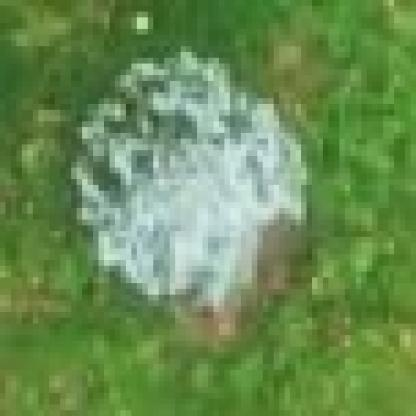Coniferous Tree: (71, 58, 312, 306)
